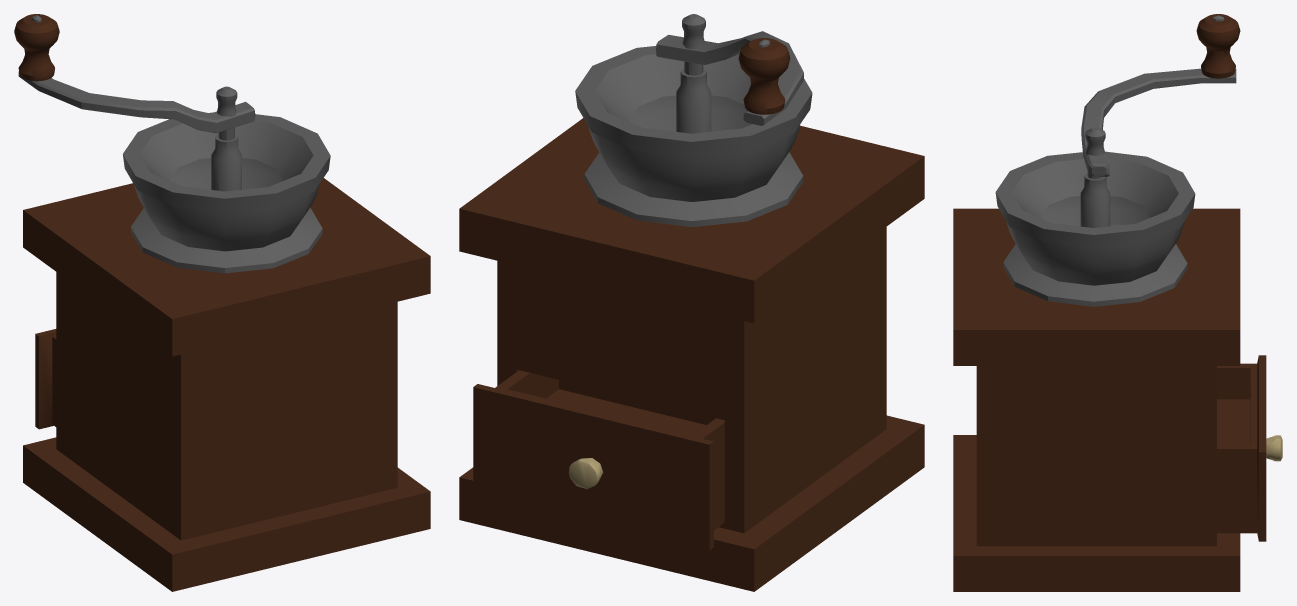
File: tumba.fbx
3 renders of one model, left to right at view 1: azimuth 30°, elevation 25°; view 2: azimuth 150°, elevation 25°; view 3: azimuth 270°, elevation 25°, orthographic. The views are drawn at different scales.
Parts seen in each view (by area): view 1: Cube, Circle, Cube.002, Cube.001; view 2: Cube, Circle, Cube.001, Cube.002; view 3: Cube, Circle, Cube.001, Cube.002.
Part boxes in pixels (x1,y1,x2,y2): Cube: (23, 178, 430, 591); Circle: (123, 86, 330, 273); Cube.002: (14, 14, 255, 133); Cube.001: (35, 329, 56, 429); Cube: (459, 118, 924, 591); Circle: (575, 14, 812, 227); Cube.001: (473, 370, 724, 550); Cube.002: (656, 31, 803, 125); Cube: (953, 208, 1240, 591); Circle: (995, 127, 1195, 306); Cube.001: (1217, 355, 1282, 541); Cube.002: (1081, 14, 1240, 176).
Bounding box in the file's own units: 2.94 × 4.83 × 3.16.
